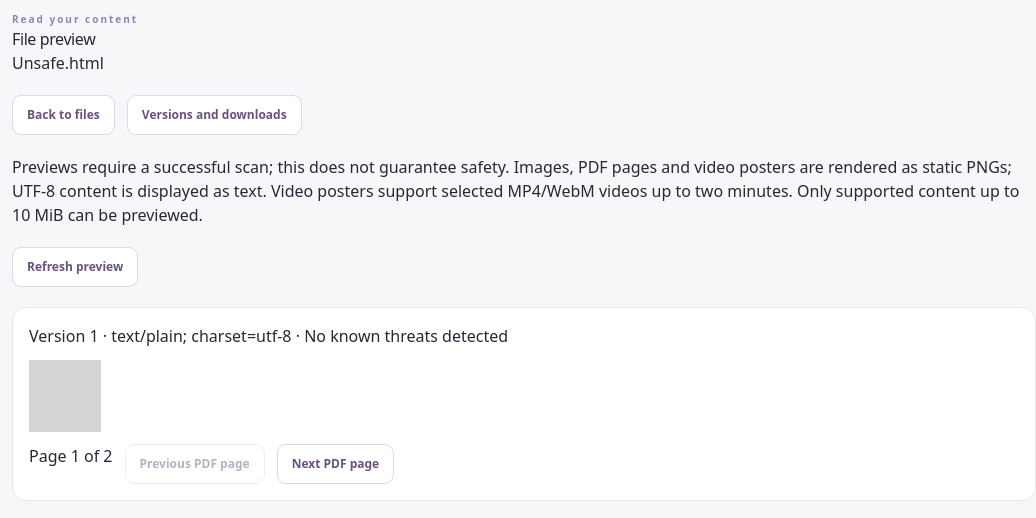
Test case: binds PDF page navigation to the selected historical version
This screenshot has width=1036, height=518.
Expected: the text "Page 1 of 2" is shown, [29,445,112,467]
Step 1. Click the button "Next PDF page" → (335, 464), box [277,444,394,484]
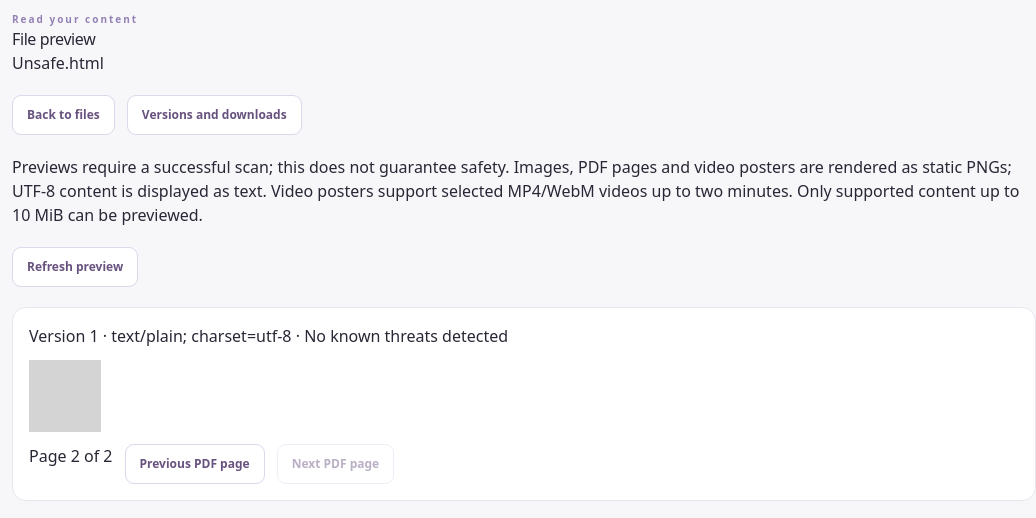
Expected: the text "Page 2 of 2" is shown, [29,445,112,467]
Expected: the button "Next PDF page" is disabled, [277,444,394,484]
